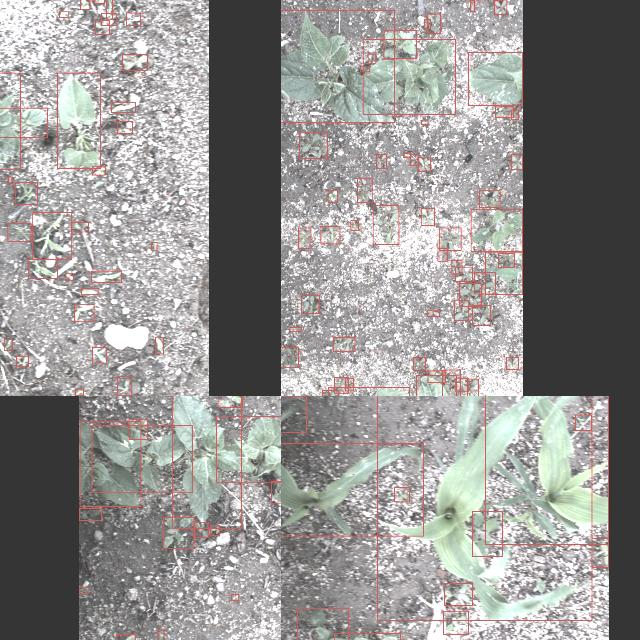crop: (377, 396, 592, 620), (485, 396, 609, 544), (281, 444, 423, 536), (281, 10, 394, 122), (172, 396, 241, 528), (362, 40, 456, 114), (91, 426, 192, 492), (80, 422, 140, 506), (216, 416, 281, 482), (58, 73, 100, 169), (468, 52, 522, 106), (0, 72, 20, 169), (0, 108, 47, 138), (281, 396, 306, 432), (417, 375, 457, 396)
weed: (471, 209, 523, 251), (32, 212, 72, 260), (296, 608, 347, 640), (486, 252, 522, 294), (472, 512, 502, 556), (373, 206, 399, 244), (384, 30, 416, 59), (163, 518, 193, 548), (299, 133, 327, 159), (443, 584, 472, 606), (28, 260, 58, 278), (444, 612, 468, 634), (15, 182, 37, 204), (460, 284, 482, 306), (474, 272, 496, 294), (592, 538, 608, 568), (443, 370, 461, 396), (440, 228, 460, 250), (122, 54, 148, 70), (128, 420, 148, 440), (8, 223, 30, 241), (473, 305, 491, 325), (320, 226, 340, 244), (480, 190, 500, 208), (281, 347, 298, 367), (358, 179, 372, 203), (301, 295, 319, 313), (74, 305, 94, 321), (454, 301, 470, 321), (333, 338, 355, 352), (91, 272, 121, 282), (117, 376, 131, 396), (111, 101, 135, 112), (79, 508, 101, 520), (218, 396, 242, 407), (456, 266, 472, 282), (576, 415, 592, 431), (421, 208, 435, 226), (428, 14, 440, 34), (299, 228, 311, 248), (93, 347, 107, 363), (499, 253, 515, 267), (194, 522, 208, 538), (394, 488, 410, 502), (271, 481, 281, 503), (428, 371, 446, 383), (467, 378, 478, 396), (95, 21, 109, 35), (127, 12, 141, 26), (334, 378, 348, 392), (455, 378, 469, 392), (496, 107, 514, 117), (102, 13, 116, 25), (118, 121, 132, 133), (495, 0, 507, 14), (418, 158, 430, 172), (506, 357, 520, 369), (72, 222, 88, 232), (512, 154, 522, 170), (156, 336, 164, 354), (413, 358, 425, 370), (438, 248, 448, 262), (452, 260, 462, 274), (376, 154, 386, 168), (16, 356, 28, 366), (107, 0, 113, 20), (328, 190, 338, 202), (92, 167, 106, 175), (321, 390, 338, 396), (80, 0, 90, 10), (210, 525, 220, 535), (82, 289, 98, 295), (345, 379, 353, 391), (410, 154, 418, 166), (4, 340, 12, 350), (74, 388, 84, 396), (351, 220, 359, 230), (428, 310, 440, 316), (157, 629, 163, 640), (60, 10, 68, 18), (368, 54, 376, 62), (512, 110, 518, 120), (360, 66, 370, 72), (78, 588, 88, 594), (424, 20, 431, 28), (65, 274, 73, 280), (471, 0, 475, 12), (289, 327, 301, 331), (404, 152, 411, 158), (232, 594, 238, 600), (8, 176, 12, 184), (152, 242, 156, 250), (94, 0, 104, 3), (422, 120, 428, 124)
